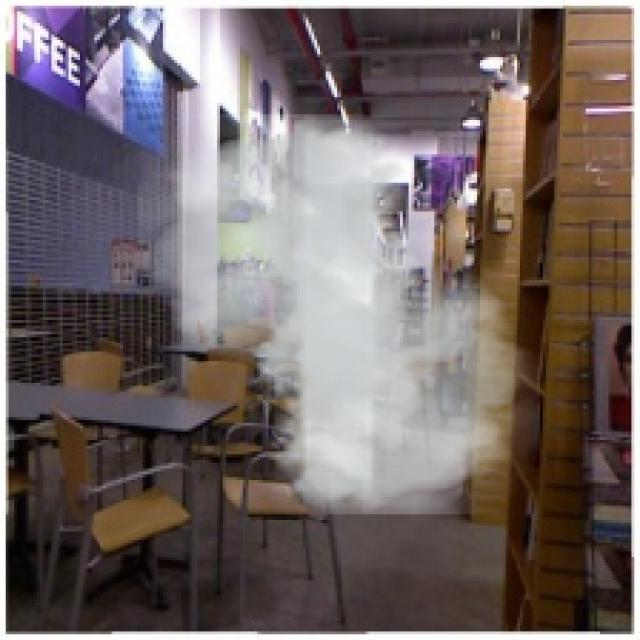smoke: (137, 114, 540, 514)
